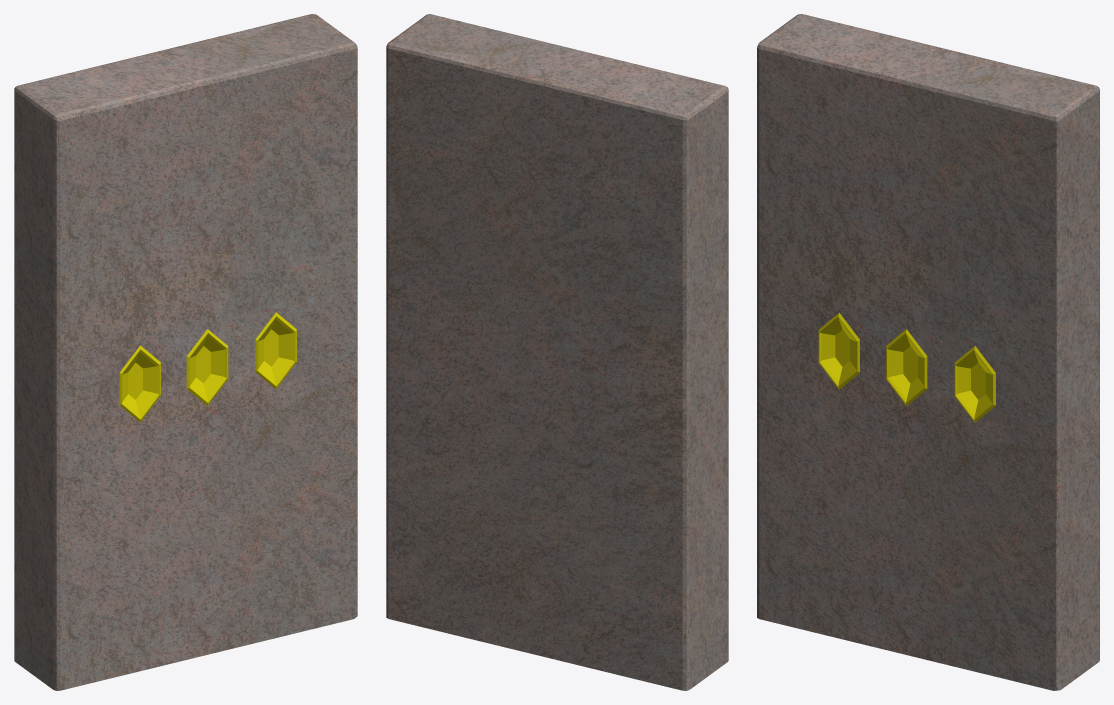
File: SlidingDoorJustYellow.glb
3 views of the same model, side by side, from view 1: azimuth 30°, elevation 25°; view 2: azimuth 150°, elevation 25°; view 3: azimuth 330°, elevation 25° (orthographic).
Visible parts, largest first — view 1: Cube; view 2: Cube; view 3: Cube.
Part boxes in pixels (bbox=[...]): Cube: bbox=[14, 14, 357, 690]; Cube: bbox=[386, 14, 728, 690]; Cube: bbox=[757, 14, 1099, 690].
Size of the model in its own units: 2 by 3.63 by 0.5086.
2 materials, 1 textured.
